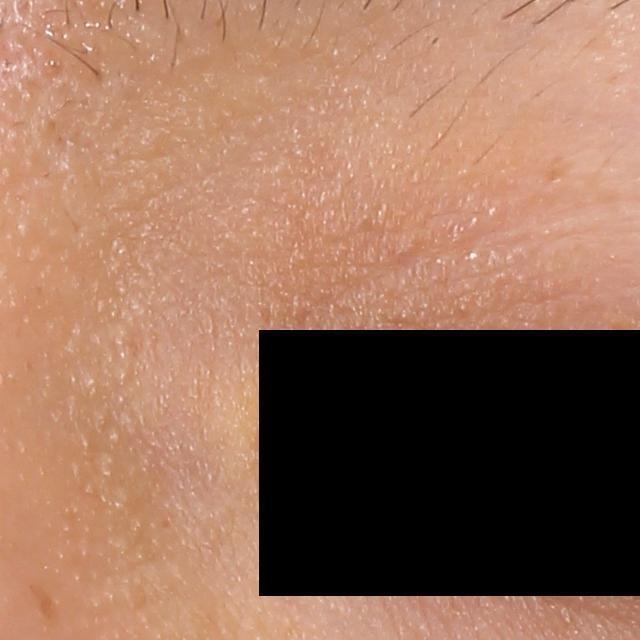melasma: (26, 581, 64, 627)
